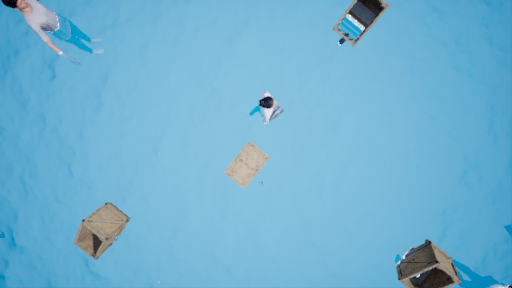person: (4, 1, 109, 67), (253, 94, 285, 123)
